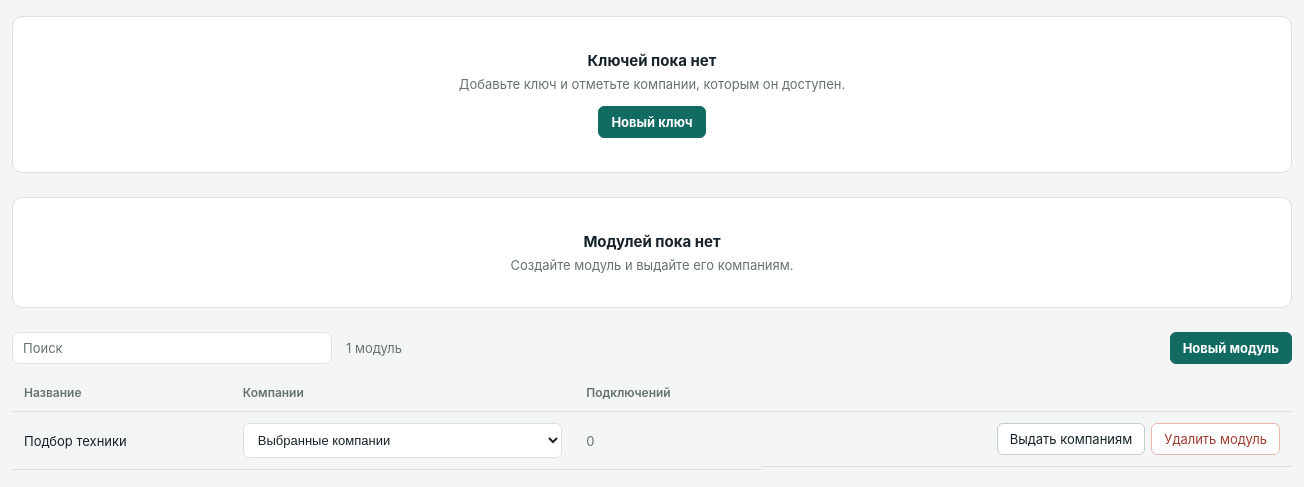
Test: dangerous actions say what happened › shows a refused deletion instead of clicking into nothing
The image size is (1304, 487).
Click the button "Удалить модуль". click: (1216, 439)
box: x1=1151 y1=423 x2=1280 y2=455
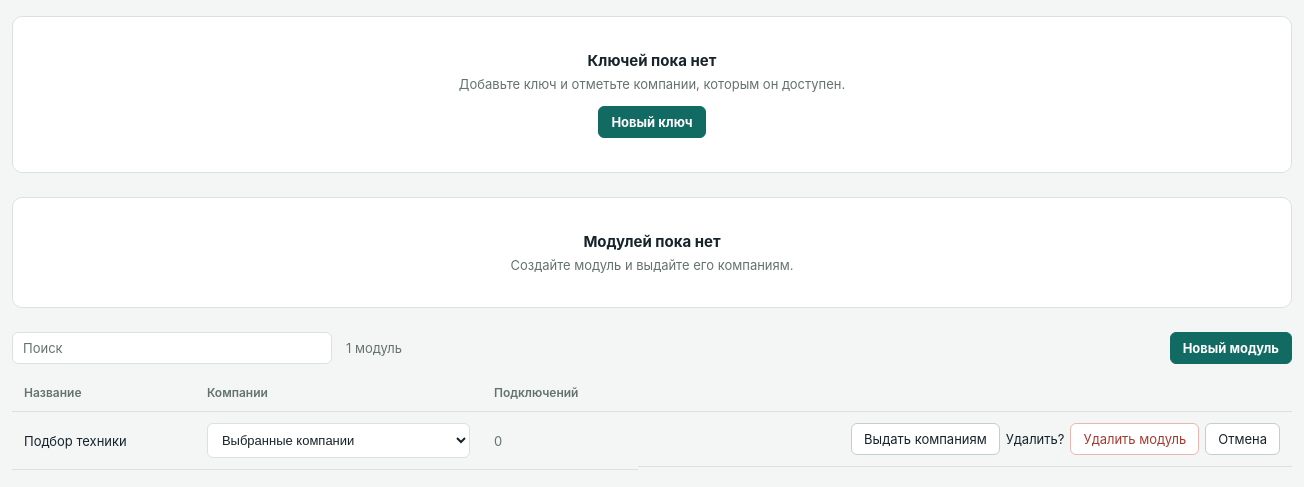
Click the button "Удалить модуль". click: (1135, 439)
box: x1=1070 y1=423 x2=1199 y2=455
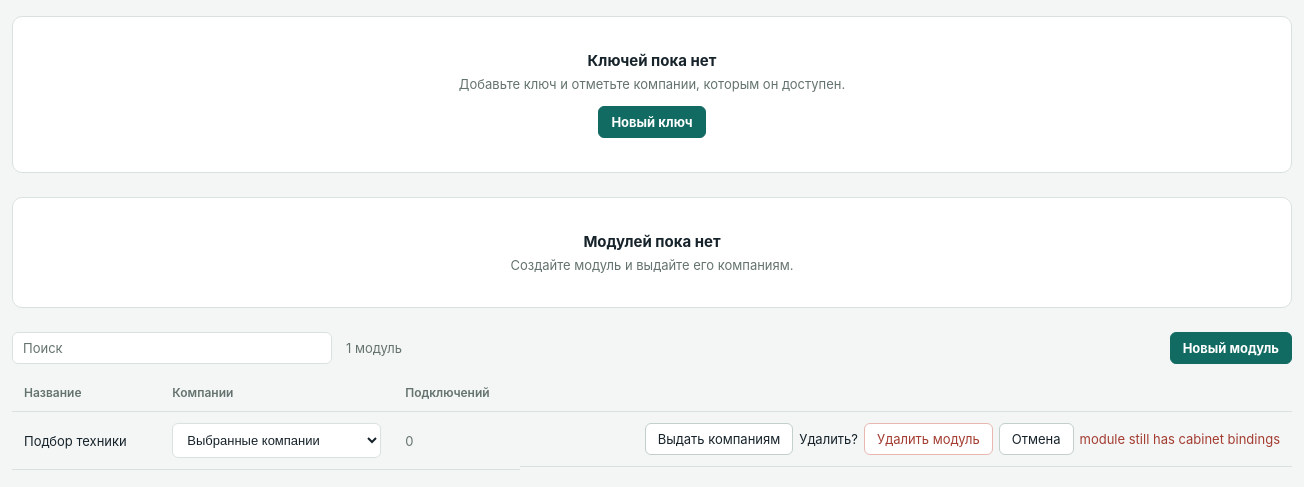
Expected: the message with class "admin-confirm__error" shows "cabinet bindings", x1=1080 y1=431 x2=1280 y2=447
